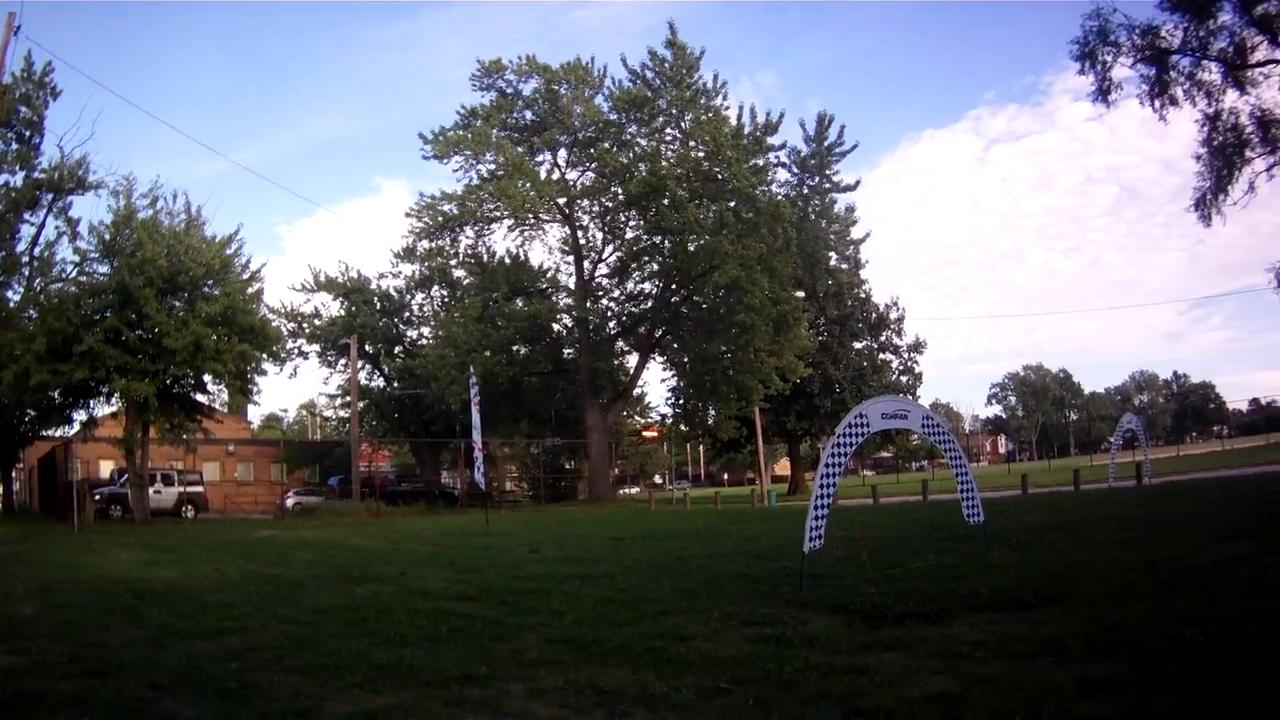gate: (800, 393, 992, 553), (1106, 409, 1153, 492)
